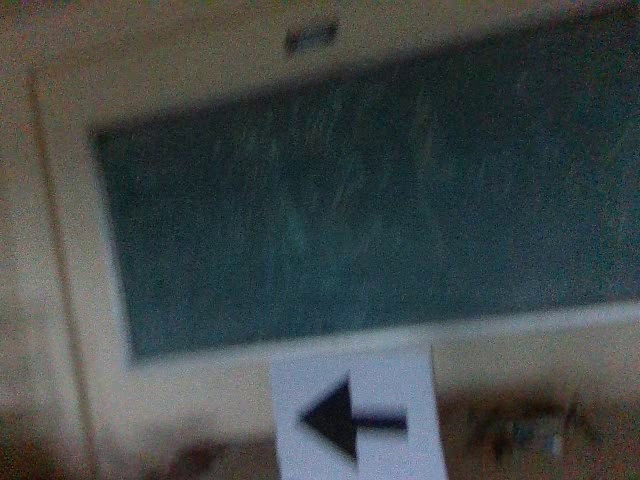Left: (285, 368, 418, 472)
